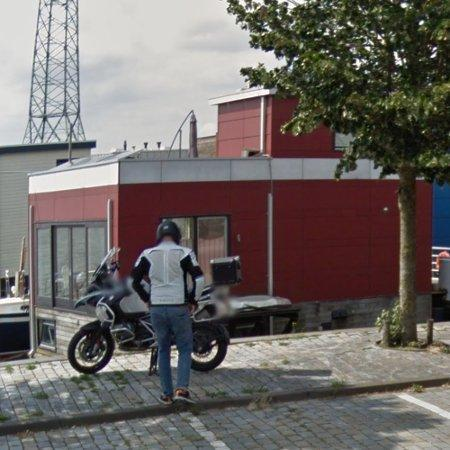motorcycles: (68, 249, 158, 375), (192, 257, 267, 372)
